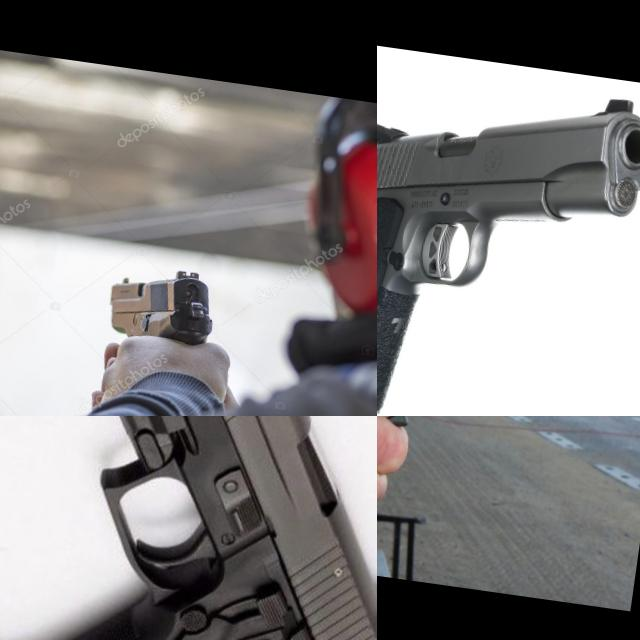handgun: (377, 58, 640, 416), (0, 416, 377, 640), (377, 416, 612, 537), (102, 257, 222, 352)
